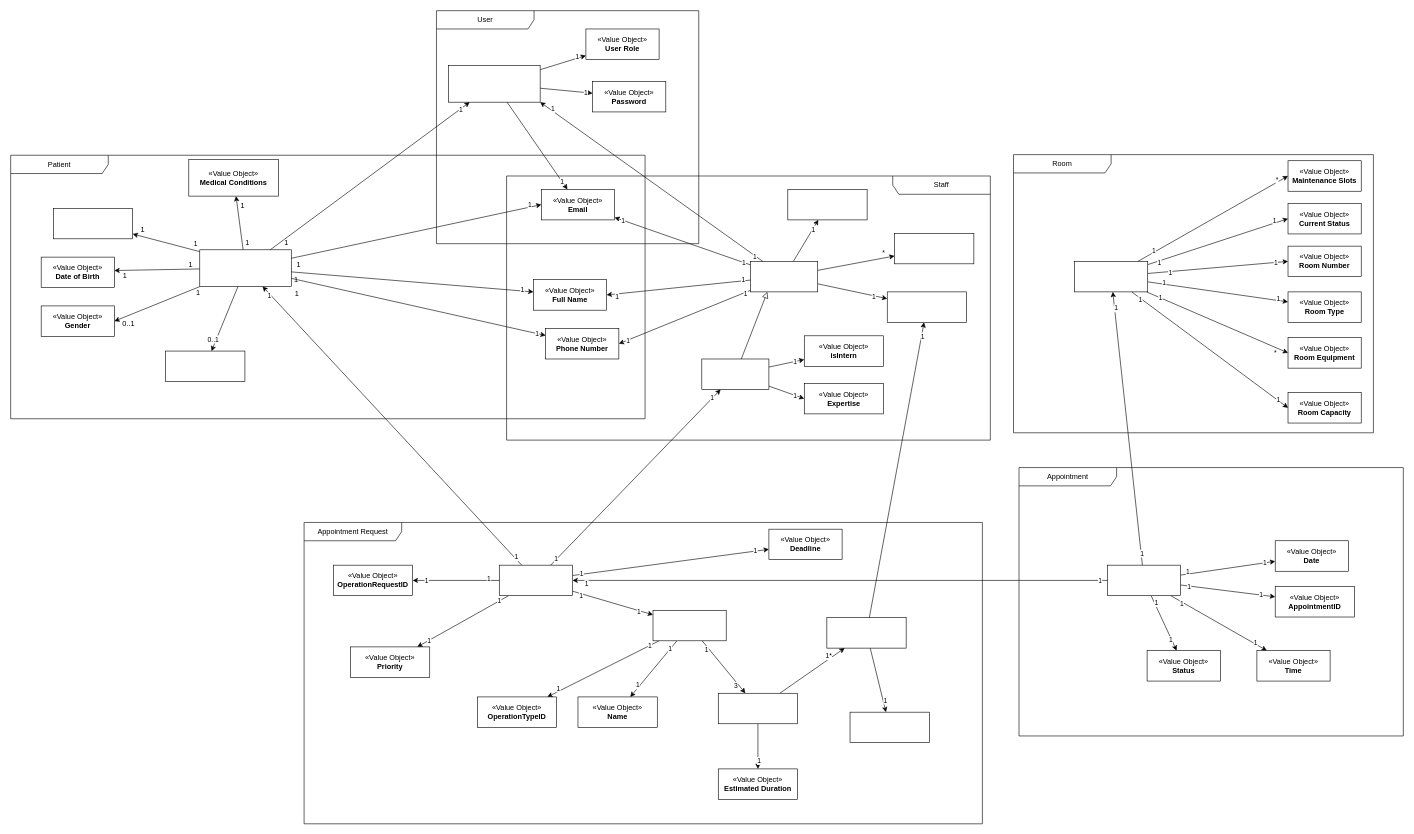
This 1414x834 diagram has some shape labels left out. Each missing label, with the box of its shape:
«Entity» Doctor: (701, 358, 769, 389)
«Root» «Entity» Appointment: (1107, 565, 1181, 596)
«Root» «Entity» OperationRequest: (499, 565, 572, 596)
«Root» «Entity» Patient: (199, 249, 291, 286)
«Root» «Entity» Room: (1074, 261, 1148, 292)
«Root» «Entity» Staff: (750, 261, 818, 292)
«Root» «Entity» User: (448, 65, 540, 102)
«Value Object» Available Slots: (894, 233, 974, 264)
«Value Object» Emergency Contact: (165, 350, 245, 382)
«Value Object» License Number: (787, 189, 867, 220)
«Value Object» Medical Record Number: (53, 208, 133, 239)
«Value Object» Number: (849, 712, 929, 743)
«Value Object» OperationType: (652, 610, 726, 641)
«Value Object» Phases: (718, 693, 798, 724)
«Value Object» RequiredStaff: (826, 617, 906, 648)
«Value Object» Specialization: (887, 291, 967, 322)
